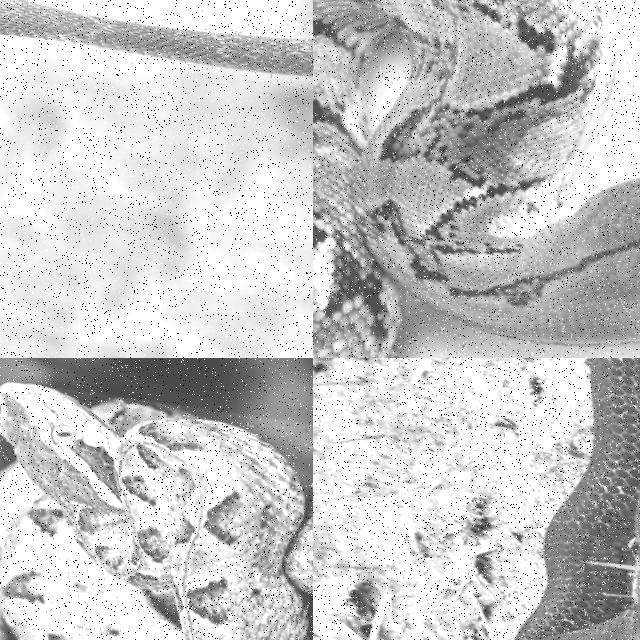Calloselasma rhodostoma: (0, 383, 307, 639)
Malayopython reticulatus: (313, 0, 639, 357)
Naja kaouthia: (0, 0, 312, 76)
Naja siamensis: (515, 358, 639, 639)
